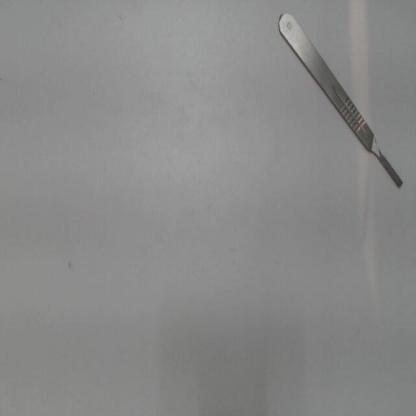No.4 BP Handle: (268, 2, 410, 201)
